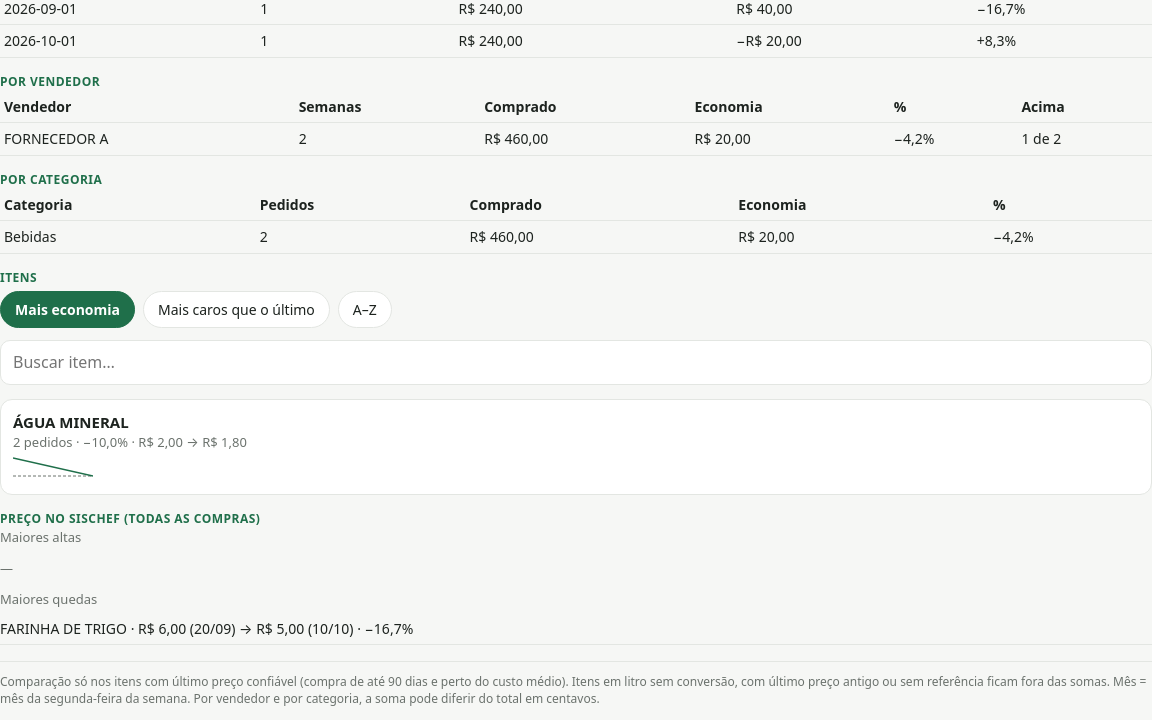
Test: Economia › tocar num item abre o Histórico do item
(page scrolled)
Click the text "ÁGUA MINERAL" at (71, 422), box [13,412,129,432]
(page scrolled)
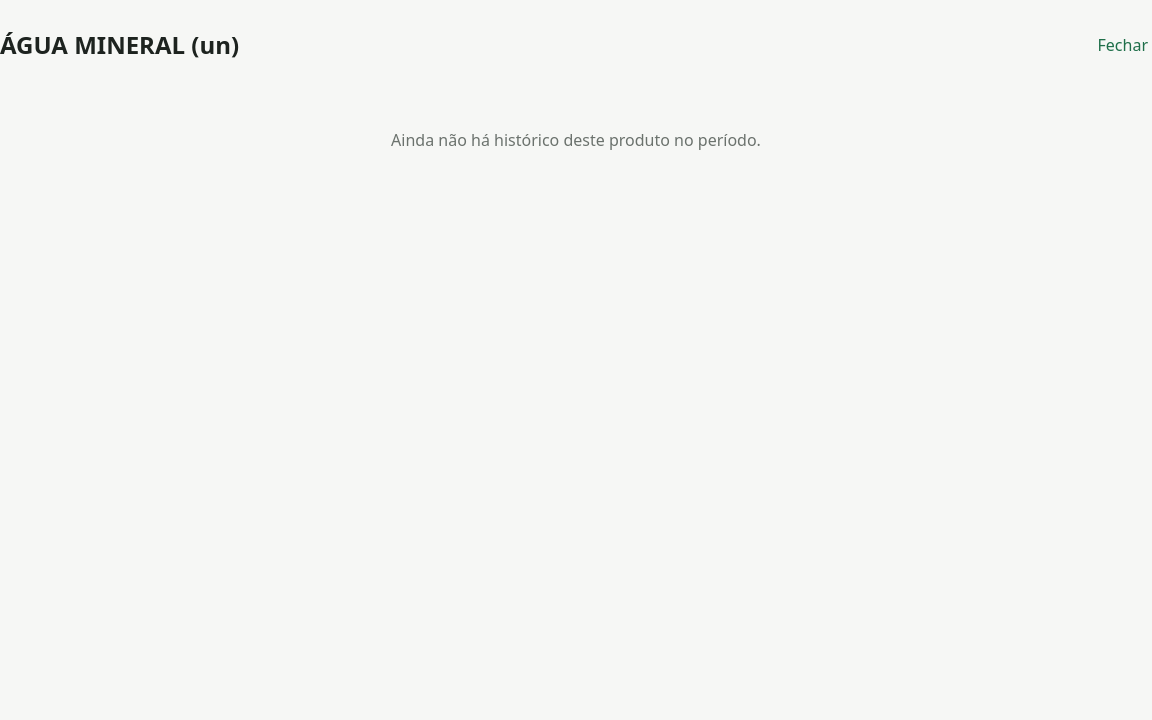
Expected: the dialog named "Histórico de ÁGUA MINERAL" is shown, [0,8,1151,184]
